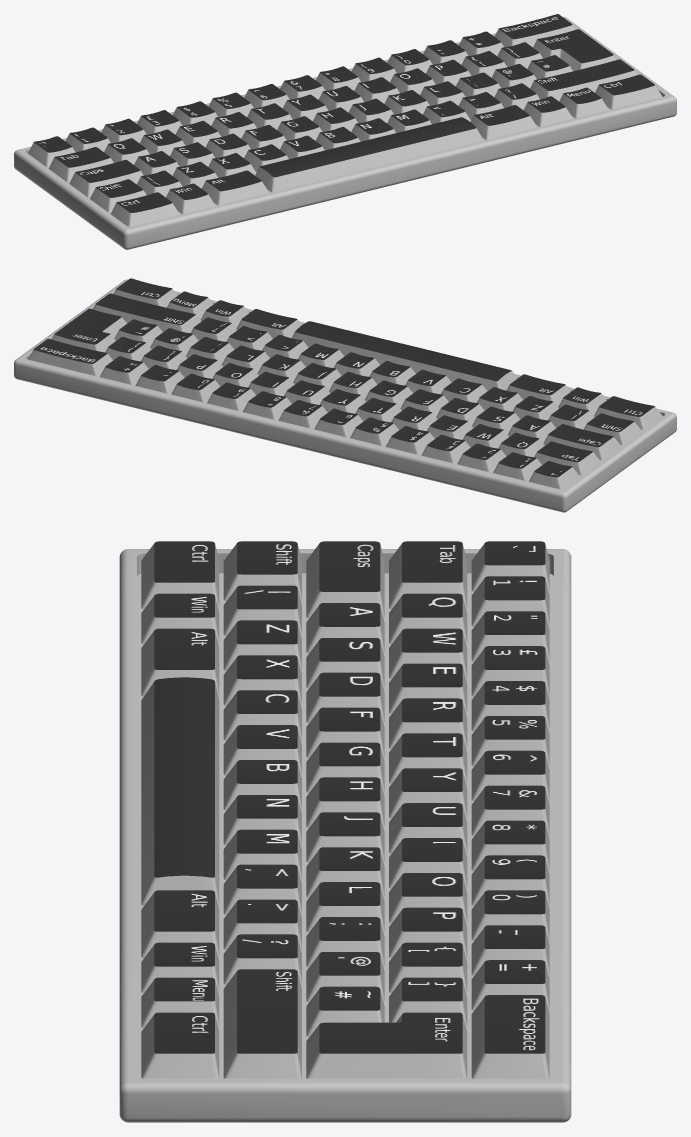
Rendered from keyboard_uk-compact-horizontal.obj.
3 renders of one model, top to bottom at view 1: azimuth 30°, elevation 25°; view 2: azimuth 150°, elevation 25°; view 3: azimuth 270°, elevation 25°, orthographic. The views are drawn at different scales.
Visible parts, largest first — view 1: keyboard_uk-compact-horizontal.obj; view 2: keyboard_uk-compact-horizontal.obj; view 3: keyboard_uk-compact-horizontal.obj.
Boxes of the visible parts, x1=… form: keyboard_uk-compact-horizontal.obj: x1=14, y1=14, x2=676, y2=249; keyboard_uk-compact-horizontal.obj: x1=14, y1=278, x2=676, y2=512; keyboard_uk-compact-horizontal.obj: x1=119, y1=541, x2=571, y2=1122.
Size of the model in its own units: 0.294 by 0.0156 by 0.104.
